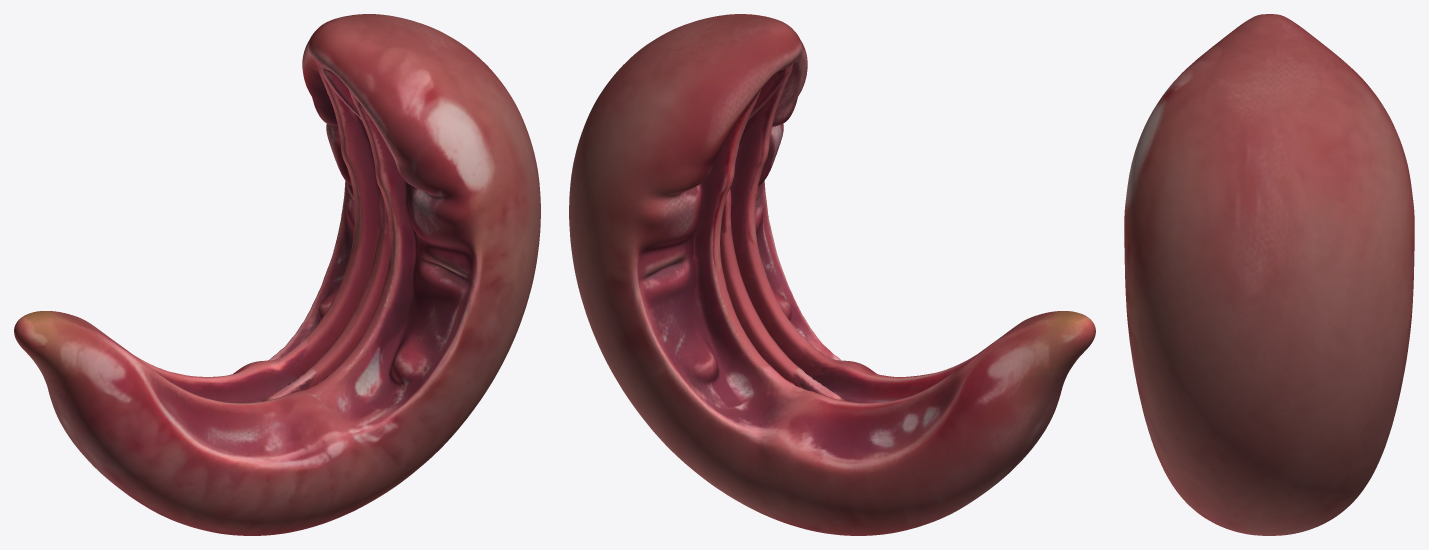
Rendered from vet_v2_organ_cat_stomach.glb.
The picture shows the model from 3 angles, left to right: view 1: azimuth 30°, elevation 25°; view 2: azimuth 150°, elevation 25°; view 3: azimuth 270°, elevation 25°; orthographic projection. The views are drawn at different scales.
Visible parts, largest first — view 1: model; view 2: model; view 3: model.
Boxes of the visible parts, x1,y1,x2,y2 form: model: [14, 14, 540, 535]; model: [569, 14, 1095, 535]; model: [1124, 14, 1414, 535].
Size of the model in its own units: 1.9 by 1.73 by 0.8664.
1 material, 1 textured.
